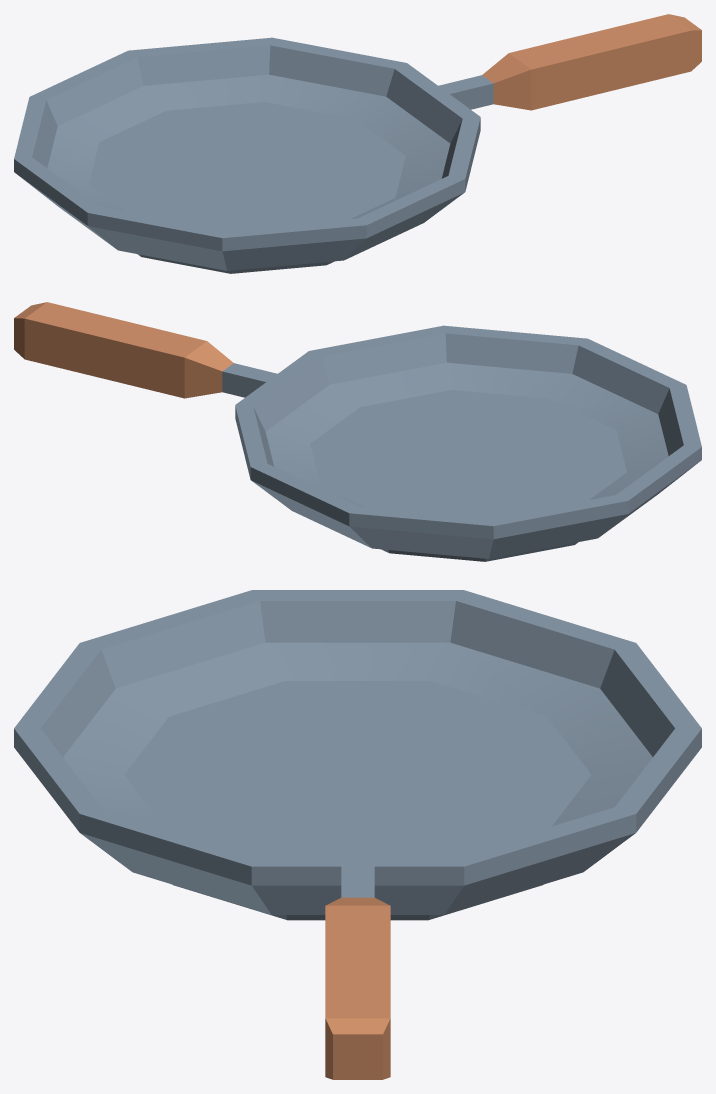
File: fryingPan.obj
3 views of the same model, one above another, from view 1: azimuth 30°, elevation 25°; view 2: azimuth 150°, elevation 25°; view 3: azimuth 270°, elevation 25° (orthographic). The views are drawn at different scales.
Parts seen in each view (by area): view 1: fryingPan; view 2: fryingPan; view 3: fryingPan.
Part boxes in pixels (<box>): fryingPan: <box>14,14,701,273</box>; fryingPan: <box>14,302,701,561</box>; fryingPan: <box>14,590,701,1079</box>.
Size of the model in its own units: 1.02 by 0.1206 by 0.6574.
